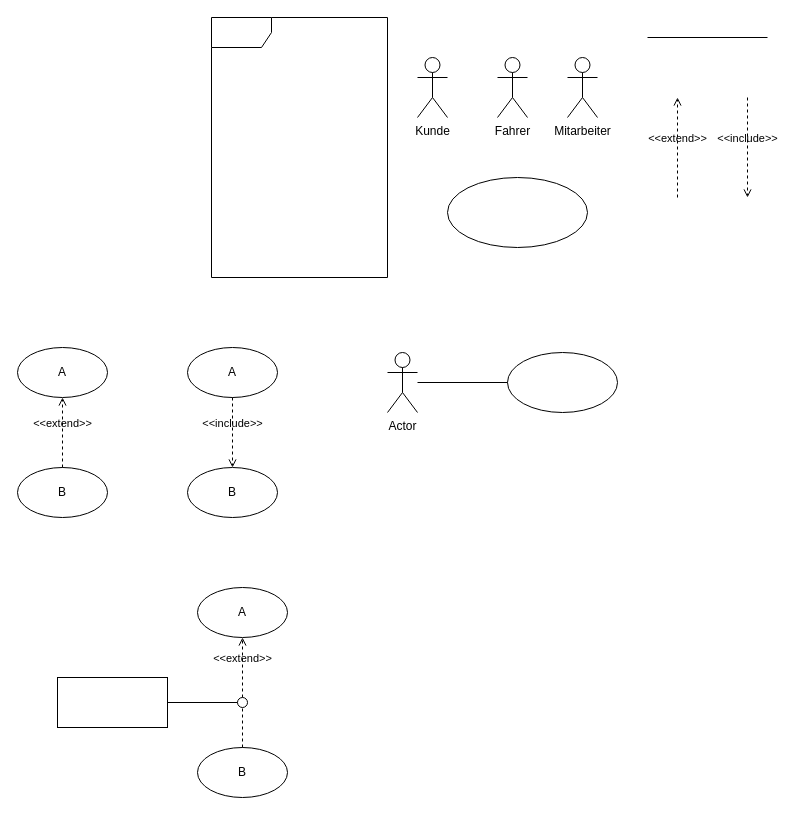
This 795x815 diagram has some shape labels left out. Here are the shapes that lost their labels. From the top down, the box of each, then its label:
(210, 16, 388, 278): Pizzeria
(446, 176, 588, 248): Use Cases
(506, 352, 618, 412): Use Case
(56, 676, 168, 728): condition: if ....
